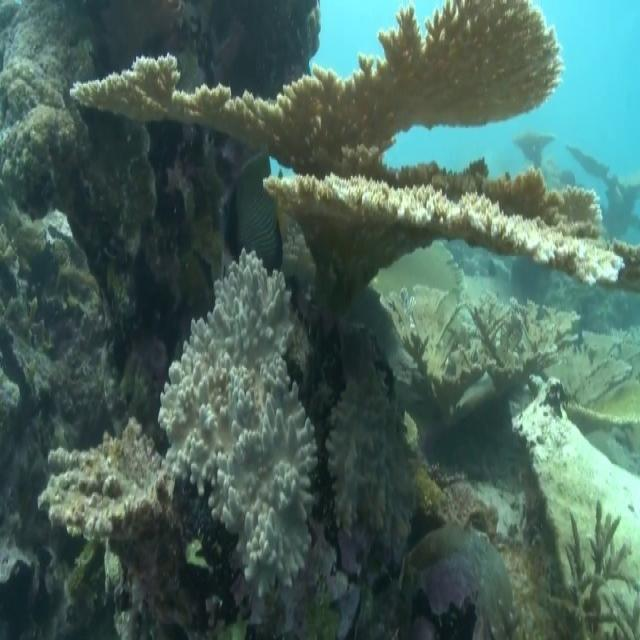reefs: (71, 0, 639, 310), (34, 243, 317, 639), (381, 284, 583, 412), (327, 371, 418, 561), (406, 522, 519, 639), (552, 498, 639, 639)
